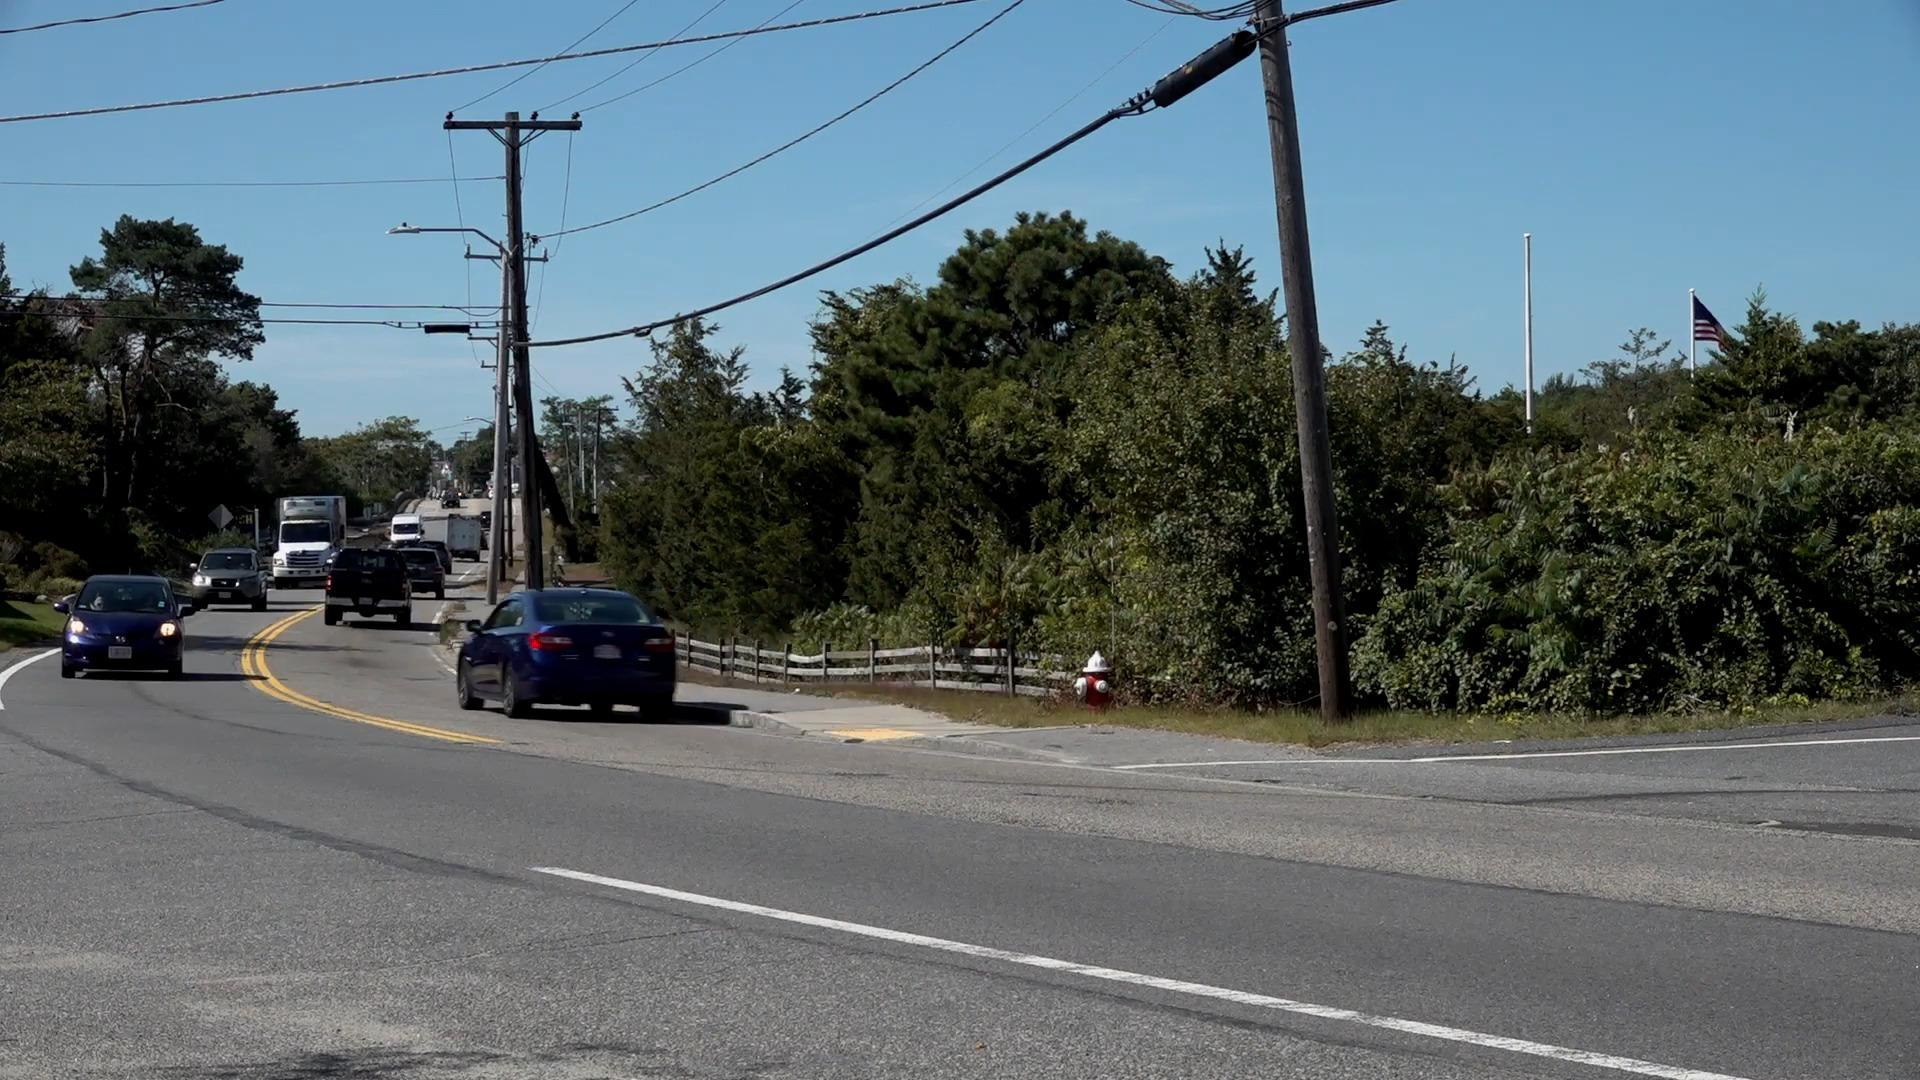pickup: (318, 538, 416, 628)
sedans: (458, 584, 681, 717), (61, 564, 190, 682)
suv: (191, 538, 263, 615)
truck: (274, 488, 343, 584), (414, 504, 483, 564)
